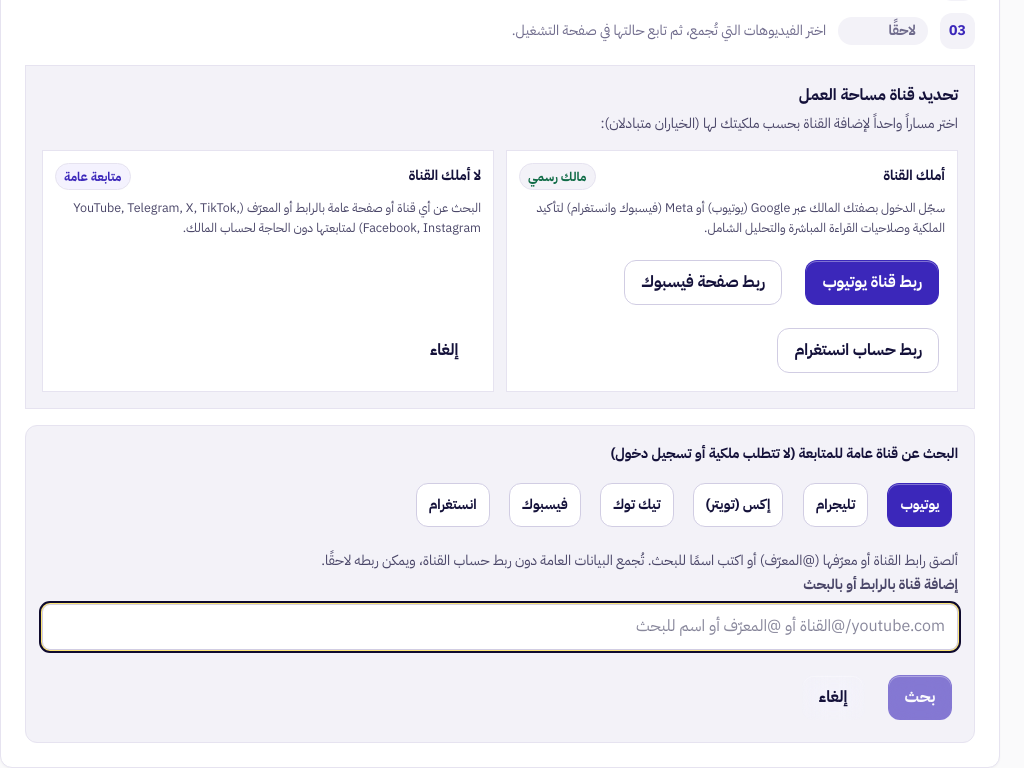
Test: WorkspaceCard › add channel by link or search › validates X handle and shows error for invalid input
The width and height of the screenshot is (1024, 768).
(page scrolled)
Click the button "إكس (تويتر)" at x=738, y=505, box [693, 483, 784, 527]
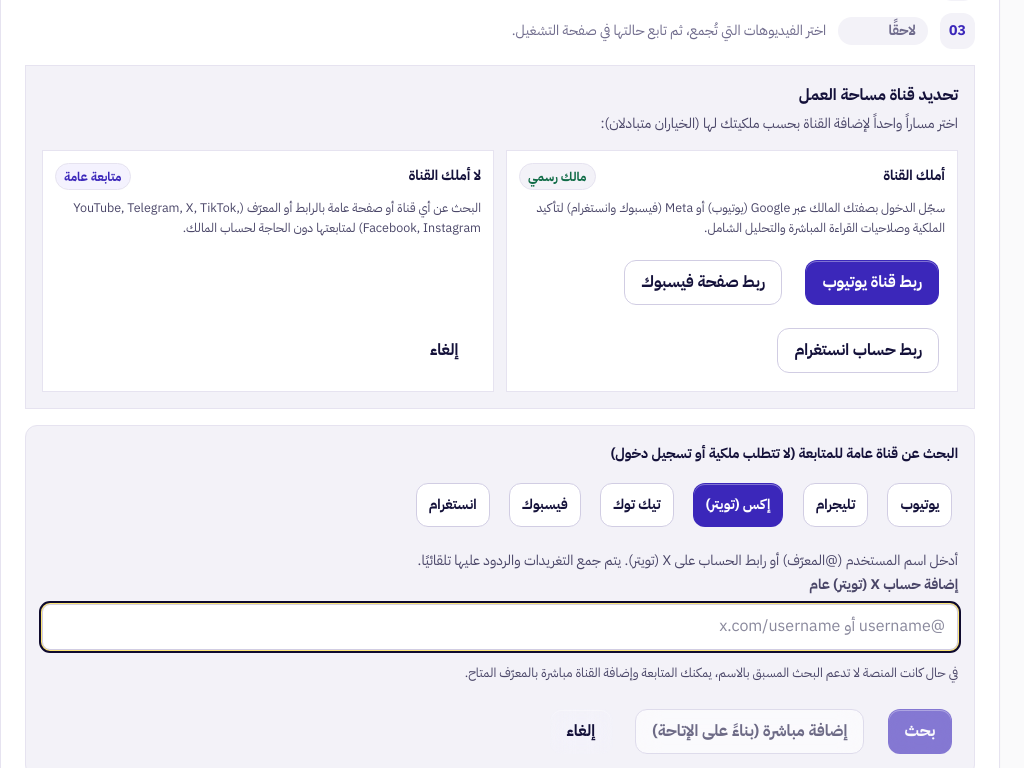
Type "invalid handle with spaces!" into the field labelled "إضافة حساب X (تويتر) عام" at x=500, y=627, box [42, 604, 958, 650]
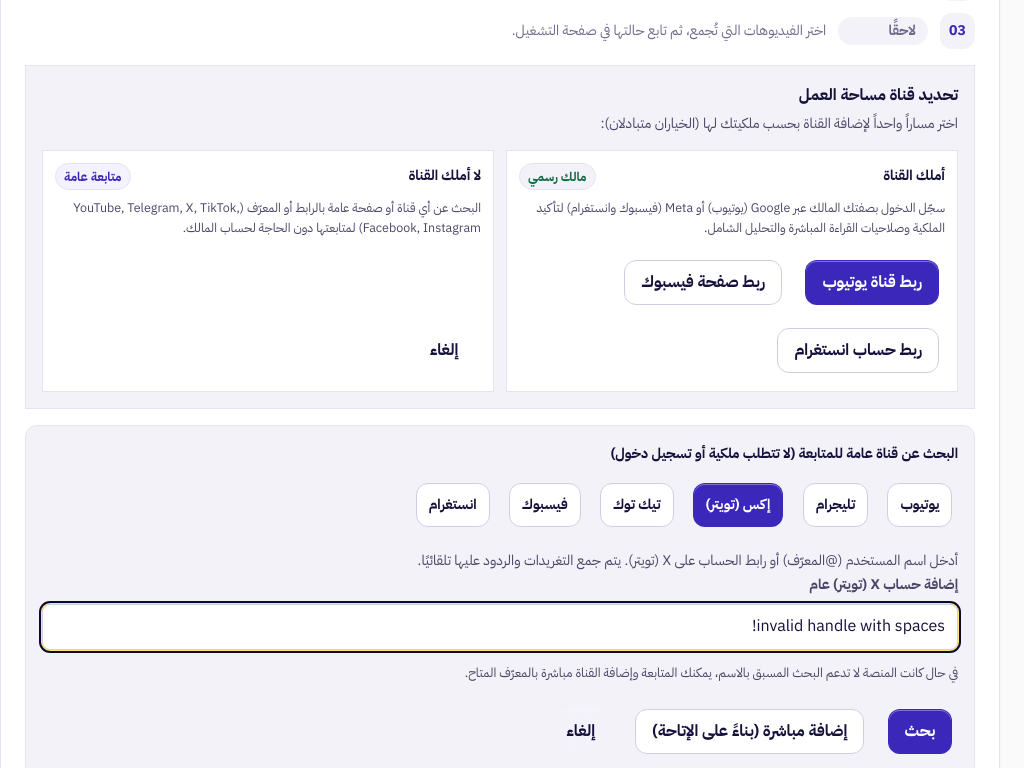
Click the button "إضافة مباشرة (بناءً على الإتاحة)" at x=750, y=731, box [635, 709, 864, 754]
(page scrolled)
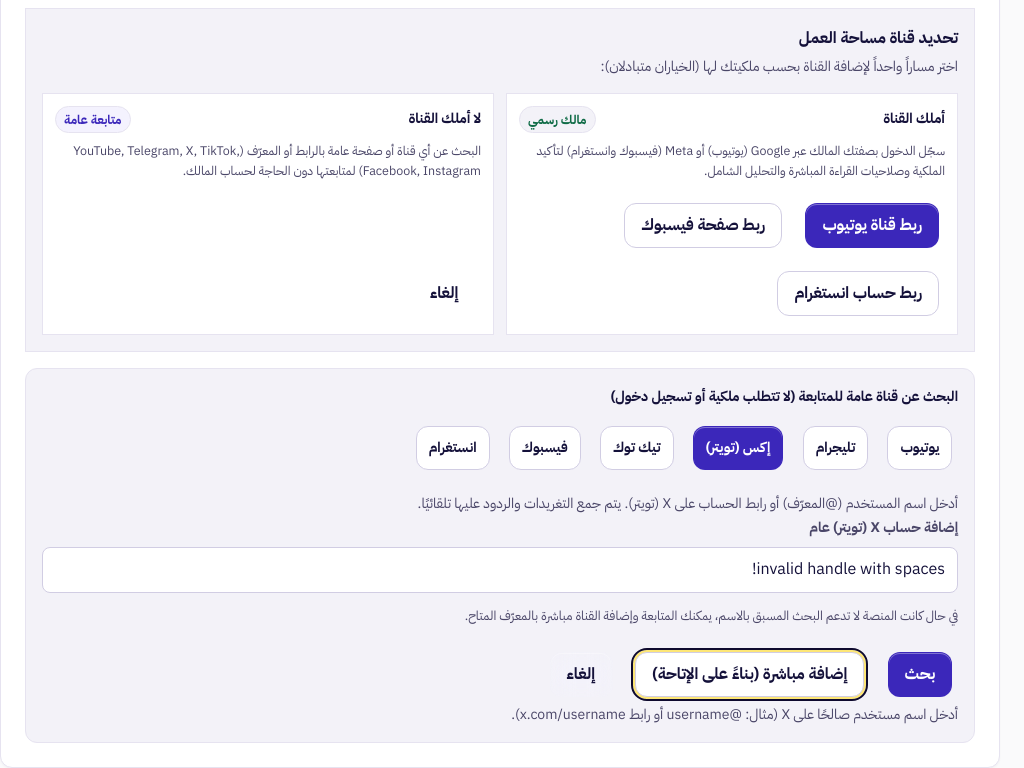
Expected: the text "أدخل اسم مستخدم صالحًا على X (مثال: @username أو رابط x.com/username)." is shown, [511, 704, 958, 725]
